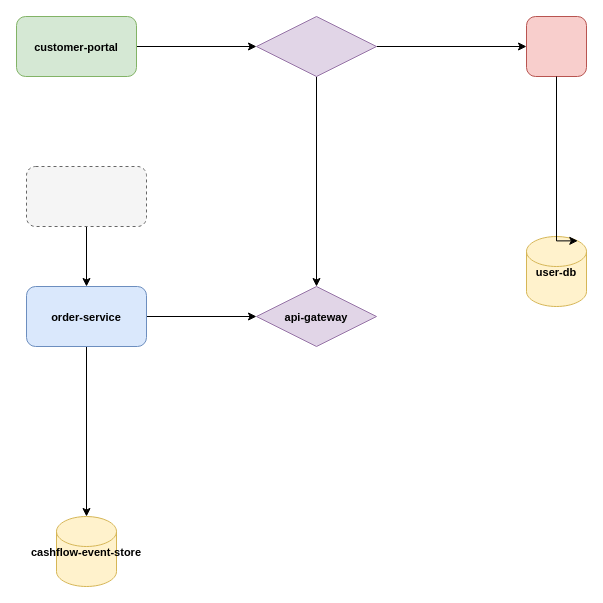
Some shapes in this 603 by 603 pixel diagram are drawn without their labels. Here are the shapes that lost their labels. From the top down, the box of each, then its label:
(256, 16, 376, 76): sics-booking-gateway
(526, 16, 586, 76): event-bus
(26, 166, 146, 226): mdm-exchange-rate
